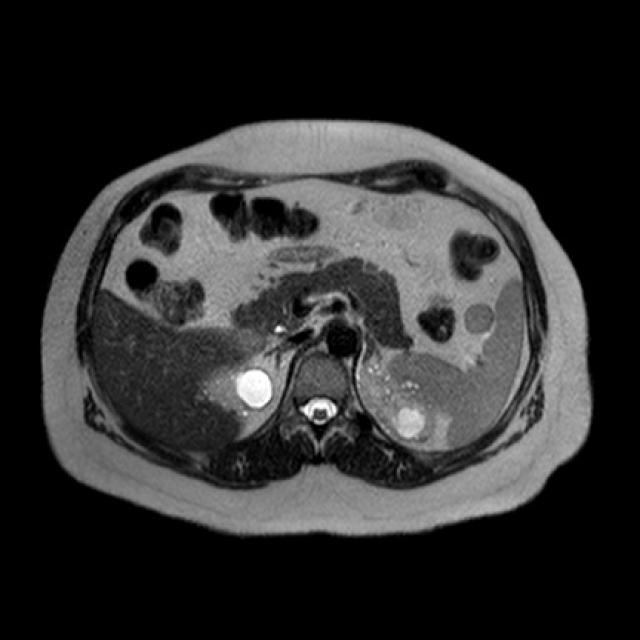sag: (204, 367, 276, 416)
sol: (358, 363, 435, 447)
